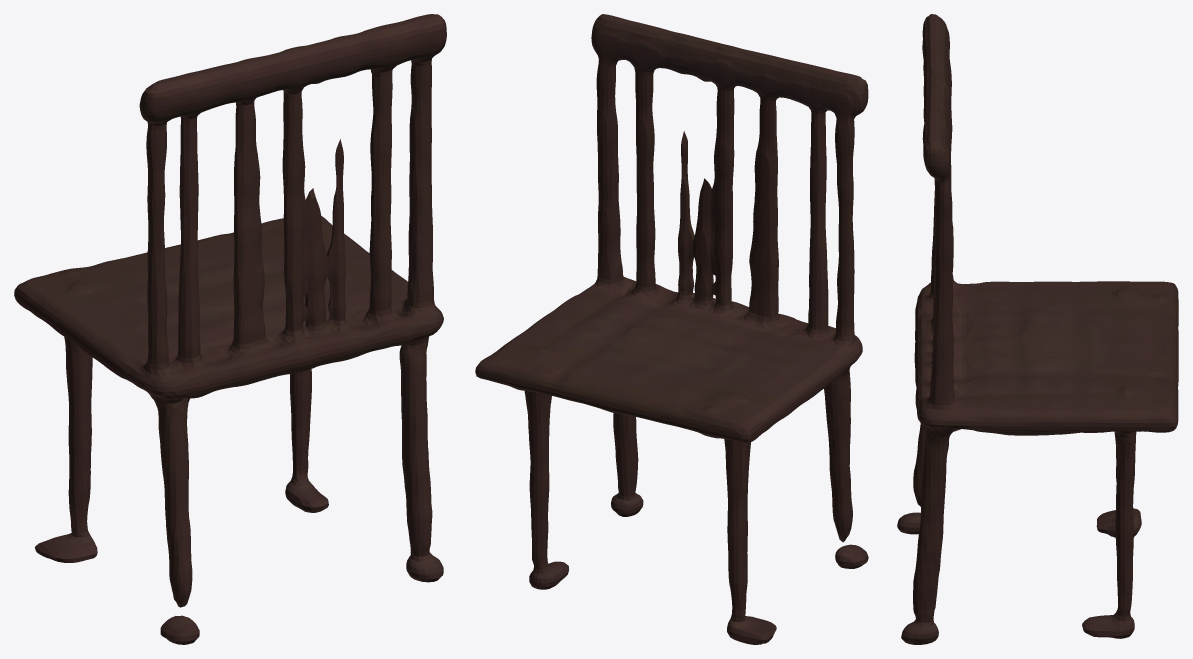
File: chair.glb
3 views of the same model, side by side, from view 1: azimuth 30°, elevation 25°; view 2: azimuth 150°, elevation 25°; view 3: azimuth 270°, elevation 25° (orthographic). The views are drawn at different scales.
Parts seen in each view (by area): view 1: chair.ply; view 2: chair.ply; view 3: chair.ply.
Part boxes in pixels (<box>): chair.ply: <box>14,14,446,644</box>; chair.ply: <box>475,14,868,644</box>; chair.ply: <box>897,14,1178,644</box>.
Bounding box in the file's own units: 1.15 × 1.98 × 0.9915.
